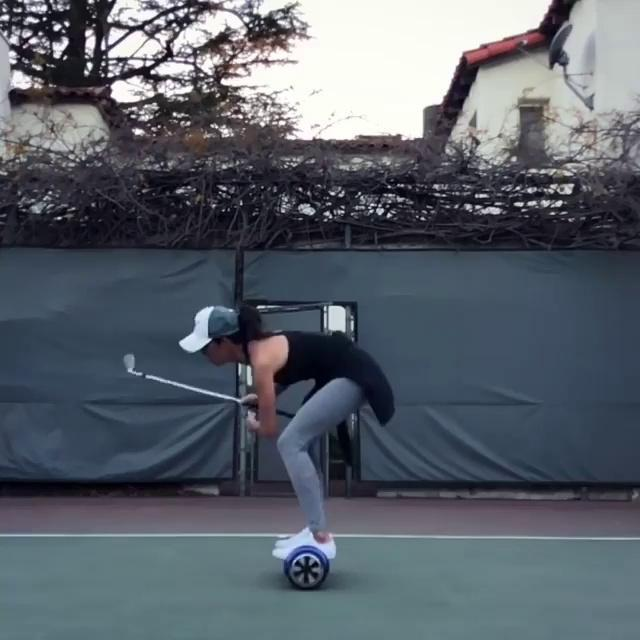golf club-handle: (123, 354, 292, 417)
golf club-head: (123, 354, 136, 370)
